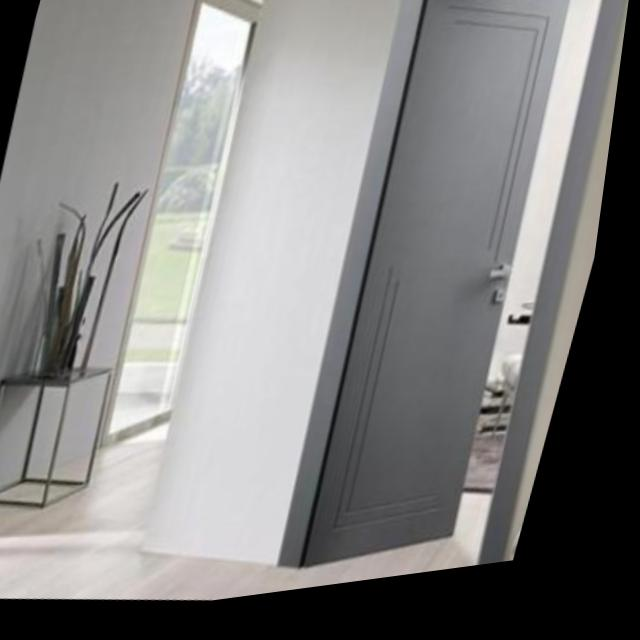door_handle: (476, 274, 524, 315)
